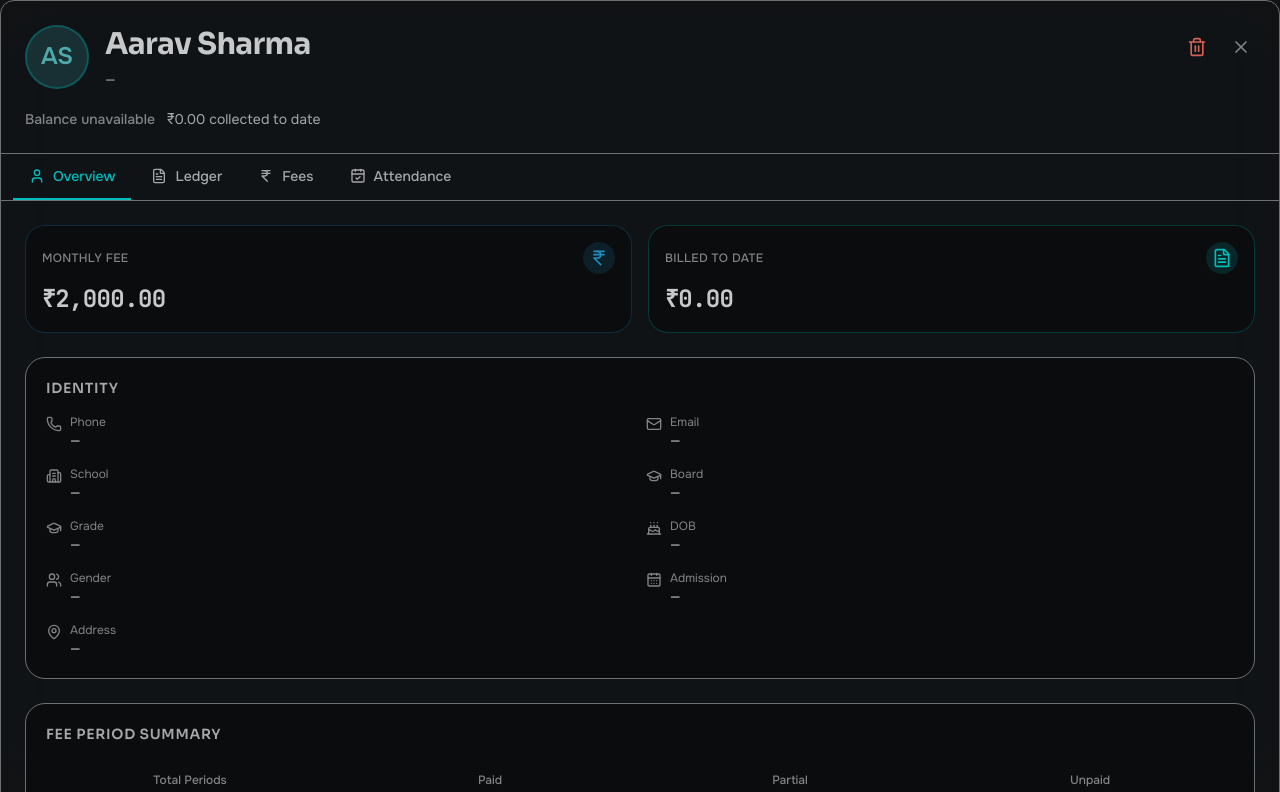
Test case: every drawer tab renders content, and points at its own panel (13 §10.4) › states an honest empty Fees tab rather than inventing figures
The width and height of the screenshot is (1280, 792).
Expected: the heading "Aarav Sharma" is shown, [105,25,311,65]
Click the tab "Fees" at (286, 177), box [242,154,330,200]
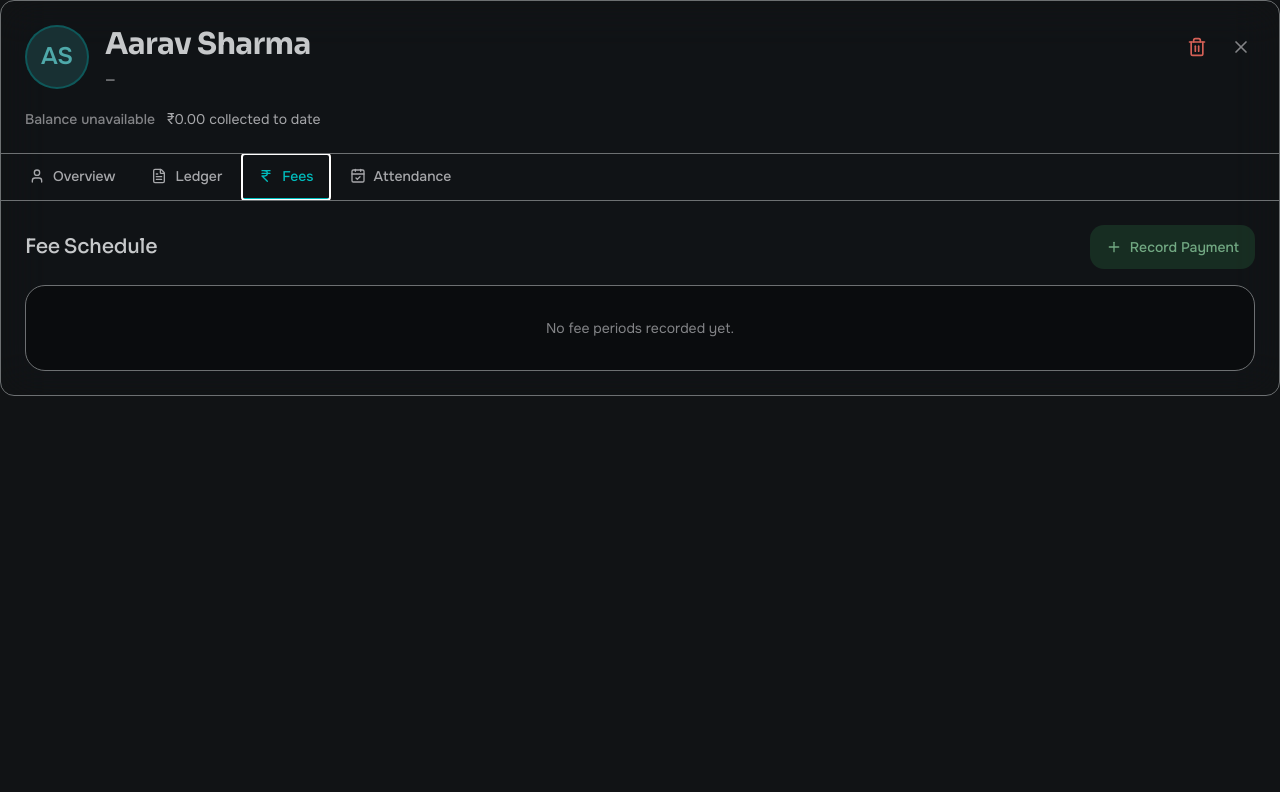
Expected: the text "₹0.00 collected to date" is shown, [167,109,321,129]
Now the text "No fee periods recorded yet." is shown, box [546,319,734,337]
